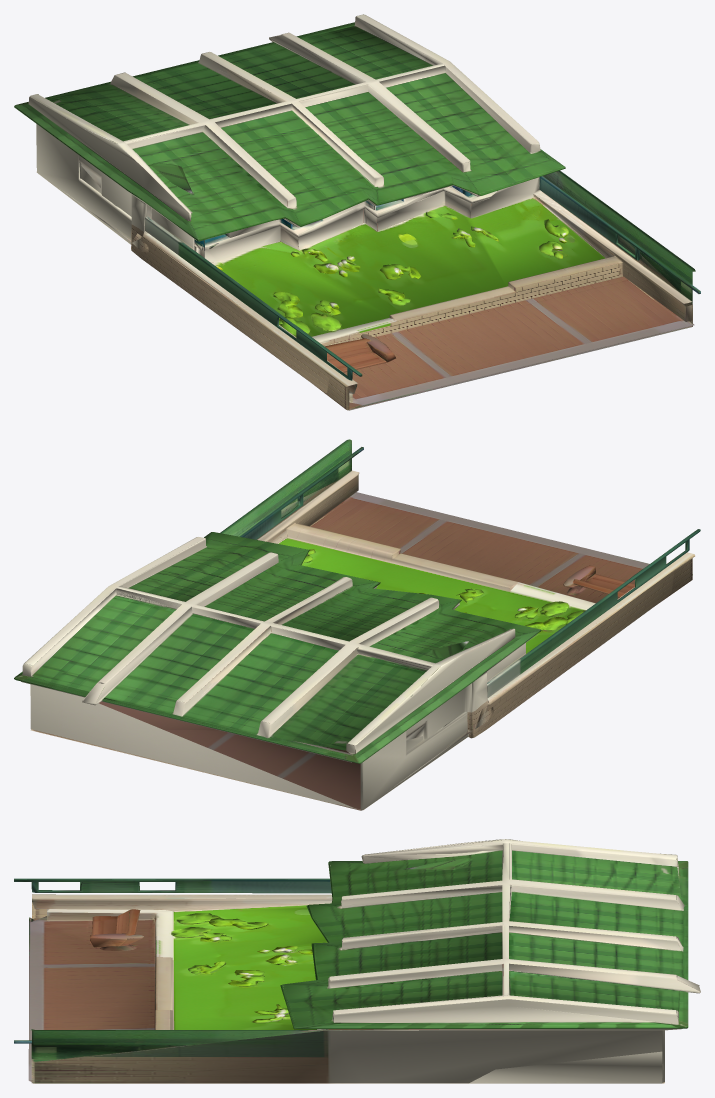
The model's file is placed_test.glb.
The picture shows the model from 3 angles, top to bottom: view 1: azimuth 30°, elevation 25°; view 2: azimuth 150°, elevation 25°; view 3: azimuth 270°, elevation 25°; orthographic projection. The views are drawn at different scales.
Visible parts, largest first — view 1: bld_557132861; view 2: bld_557132861; view 3: bld_557132861.
Part boxes in pixels (x1,y1,x2,y2): bld_557132861: (14, 14, 700, 410); bld_557132861: (14, 439, 700, 810); bld_557132861: (14, 839, 700, 1083).
Bounding box in the file's own units: 12.74 × 3 × 21.92.
1 material, 1 textured.
